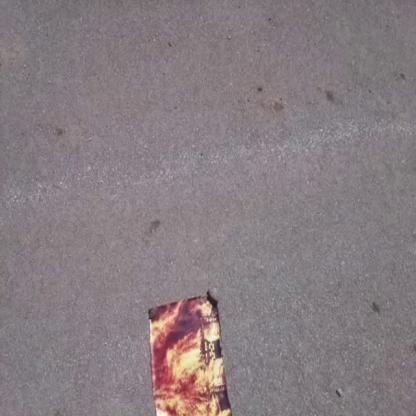fire-poster: (146, 290, 234, 415)
